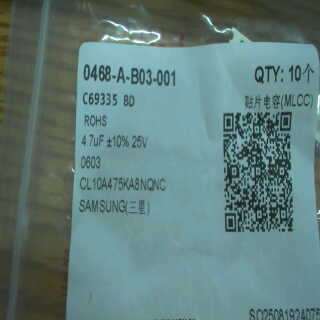4.7uF: (76, 132, 105, 152)
